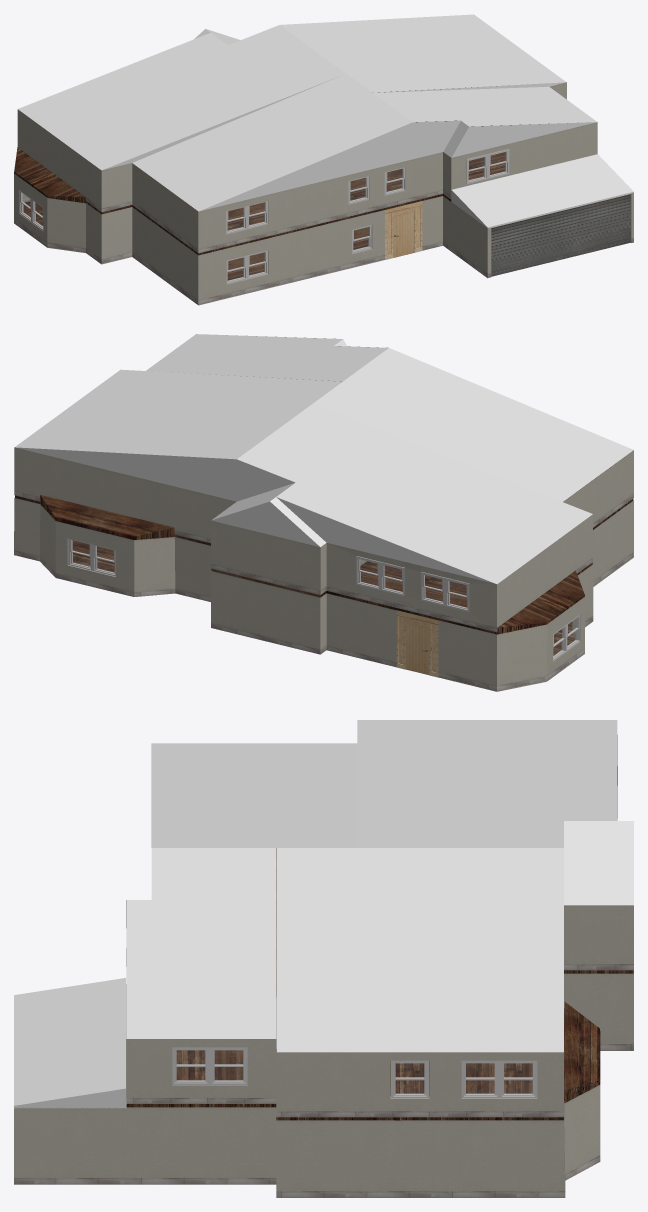
Rendered from geometry_layout.fbx.
3 views of the same model, one above another, from view 1: azimuth 30°, elevation 25°; view 2: azimuth 150°, elevation 25°; view 3: azimuth 270°, elevation 25° (orthographic). The views are drawn at different scales.
Parts seen in each view (by area): view 1: Plane.008, GroundFloorWall, SecondFloorExternalWall, Cube.001, Cube, Floor, Roof.001, GroundFloor, DoorFrame, Door; view 2: Plane.008, GroundFloorWall, SecondFloorExternalWall, Roof.003, Floor, Roof.001, DoorFrame.002, Door.002, GroundFloor; view 3: Plane.008, GroundFloorWall, SecondFloorExternalWall, Cube.001, Floor, Roof.003.
Part boxes in pixels (x1,y1,x2,y2): Plane.008: [18, 14, 596, 211]; GroundFloorWall: [14, 173, 633, 305]; SecondFloorExternalWall: [17, 82, 597, 253]; Cube.001: [451, 154, 633, 228]; Cube: [491, 194, 630, 276]; Floor: [86, 152, 505, 255]; Roof.001: [14, 147, 85, 203]; GroundFloor: [23, 201, 385, 280]; DoorFrame: [385, 201, 422, 259]; Door: [393, 211, 413, 257]; Plane.008: [14, 334, 633, 584]; GroundFloorWall: [14, 497, 633, 691]; SecondFloorExternalWall: [14, 447, 633, 632]; Roof.003: [40, 495, 174, 539]; Floor: [15, 495, 633, 634]; Roof.001: [497, 570, 584, 634]; DoorFrame.002: [396, 610, 438, 677]; Door.002: [405, 622, 429, 674]; GroundFloor: [72, 540, 574, 655]; Plane.008: [126, 720, 633, 1052]; GroundFloorWall: [14, 970, 633, 1197]; SecondFloorExternalWall: [126, 735, 633, 1117]; Cube.001: [14, 978, 126, 1108]; Floor: [126, 970, 633, 1120]; Roof.003: [564, 1002, 600, 1103].
Size of the model in its own units: 6528 by 1770 by 4886.
